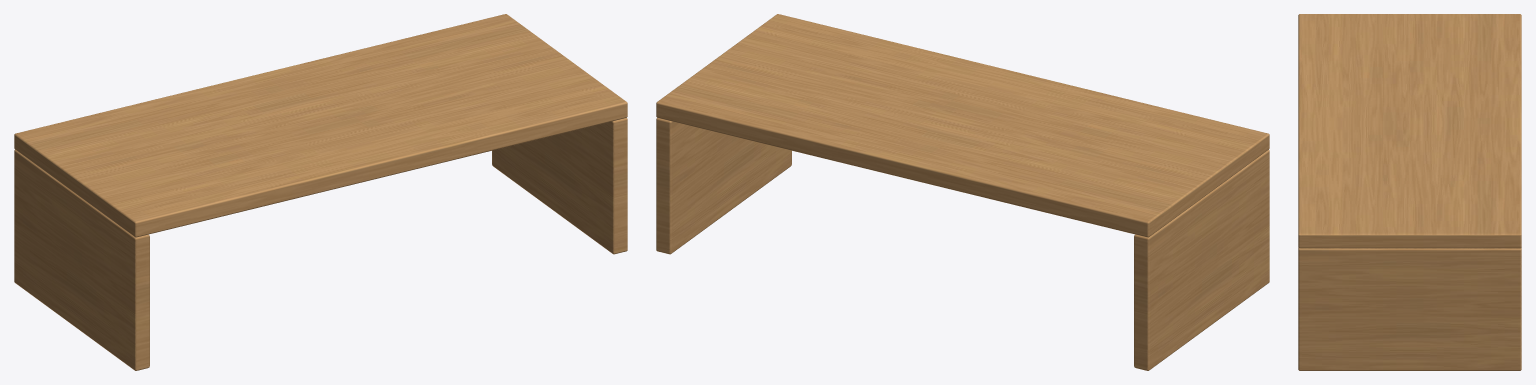
Rendered from coffee_table.glb.
3 renders of one model, left to right at view 1: azimuth 30°, elevation 25°; view 2: azimuth 150°, elevation 25°; view 3: azimuth 270°, elevation 25°, orthographic. The views are drawn at different scales.
Parts seen in each view (by area): view 1: coffee_table_body; view 2: coffee_table_body; view 3: coffee_table_body.
Part boxes in pixels (x1,y1,x2,y2): coffee_table_body: [14, 14, 627, 370]; coffee_table_body: [656, 14, 1269, 370]; coffee_table_body: [1298, 14, 1521, 370].
Bounding box in the file's own units: 1.45 × 0.42 × 0.62.
1 material, 1 textured.
